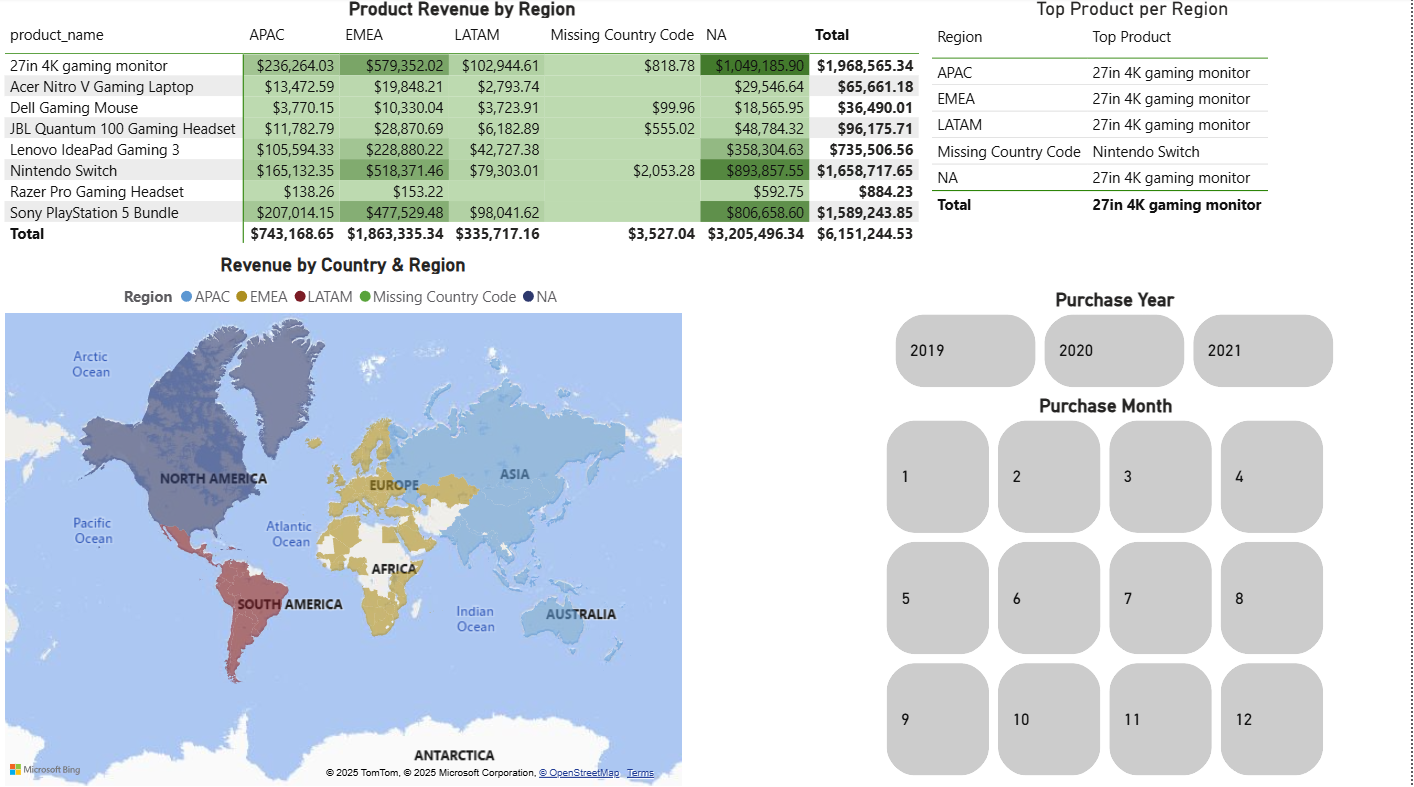

The dashboard page shown, as its layout file describes it:
{"tool":"powerbi","page":{"name":"Regional Sales Performance","canvas":[1280,720],"ordinal":2},"visuals":[{"type":"pivotTable","title":"Product Revenue by Region","fields":{"Rows":["public orders.product_name"],"Columns":["public orders.region"],"Values":["Sum(public orders.usd_price)"]},"box":[0,0,840,232],"z":0},{"type":"filledMap","title":"Revenue by Country & Region","fields":{"Category":["Geography.iso3_code"],"Series":["public orders.region"]},"box":[0,232,624,488],"z":1000},{"type":"actionButton","box":[0,0,100,40],"z":2000},{"type":"tableEx","title":"Top Product per Region","fields":{"Values":["public orders.region","public orders.TopProductRegion"]},"box":[840,0,376,264],"z":3000},{"type":"advancedSlicerVisual","title":"Purchase Year","fields":{"Values":["public orders.purchase_year"]},"box":[808,264,408,96],"z":4000},{"type":"advancedSlicerVisual","title":"Purchase Month","fields":{"Values":["public orders.purchase_month"]},"box":[800,360,408,352],"z":5000}]}

Visuals, with their boxes in screenshot pixels (x1, y1, x2, y2), scaled from the page's 1280x720 canvas onto the 1414x787 screenshot:
"Product Revenue by Region" pivotTable: (x1=0, y1=0, x2=928, y2=254)
"Revenue by Country & Region" filledMap: (x1=0, y1=254, x2=689, y2=786)
actionButton: (x1=0, y1=0, x2=110, y2=44)
"Top Product per Region" tableEx: (x1=928, y1=0, x2=1343, y2=289)
"Purchase Year" advancedSlicerVisual: (x1=893, y1=289, x2=1343, y2=393)
"Purchase Month" advancedSlicerVisual: (x1=884, y1=393, x2=1334, y2=778)
